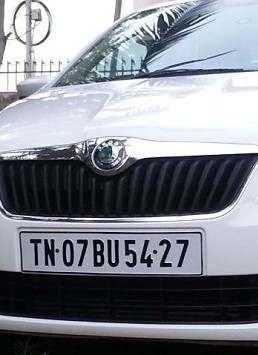TN07BU5427: (18, 230, 202, 275)
